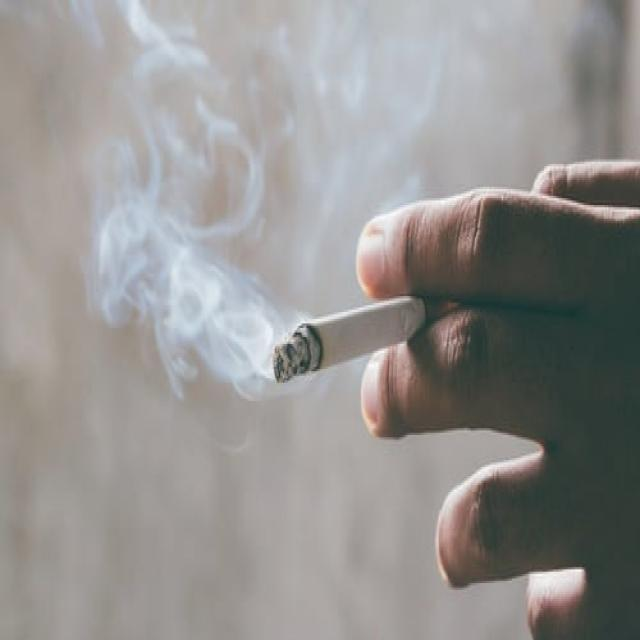rokok: (263, 288, 439, 384)
